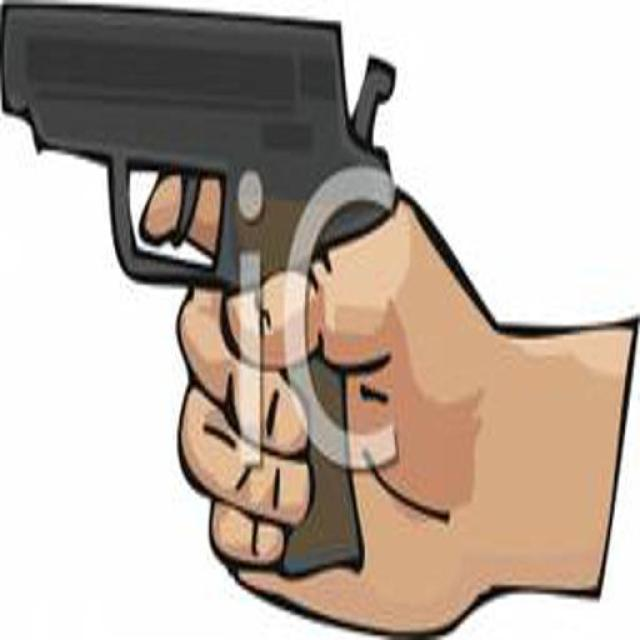pistol: (1, 4, 392, 589)
